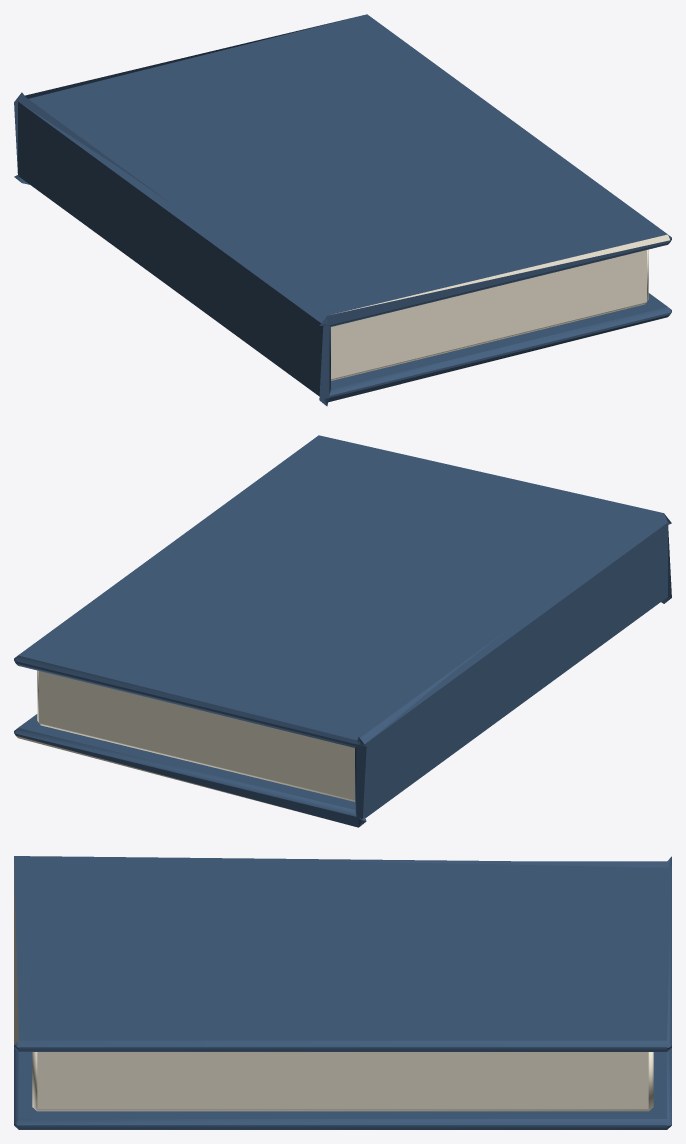
File: book_medium.glb
3 views of the same model, one above another, from view 1: azimuth 30°, elevation 25°; view 2: azimuth 150°, elevation 25°; view 3: azimuth 270°, elevation 25° (orthographic). The views are drawn at different scales.
Parts seen in each view (by area): view 1: book_medium; view 2: book_medium; view 3: book_medium.
Boxes of the visible parts, x1,y1,x2,y2 form: book_medium: (14,14,671,406); book_medium: (14,435,671,827); book_medium: (14,856,671,1129).
Bounding box in the file's own units: 0.718 × 0.176 × 1.07.
